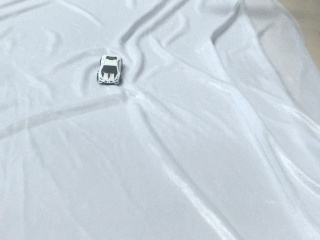toy_car: (97, 55, 123, 85)
